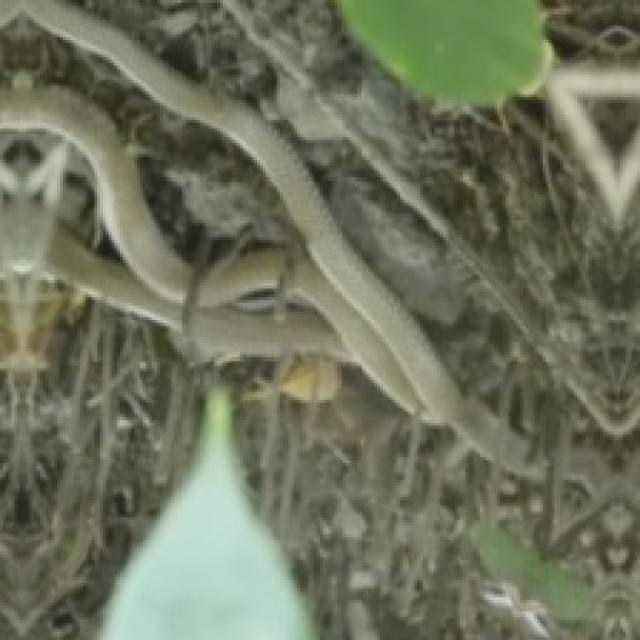king cobra: (0, 0, 540, 477)
